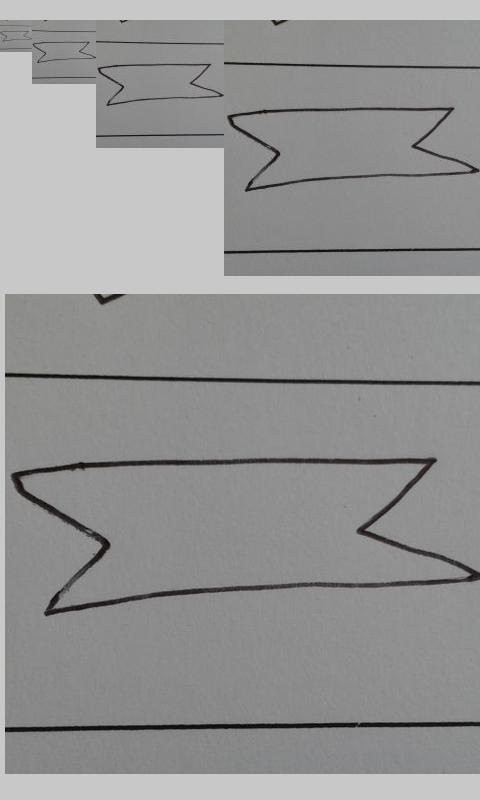edit_text: (12, 456, 480, 618), (229, 106, 480, 193), (99, 63, 224, 107), (33, 41, 96, 64), (1, 30, 31, 42)
